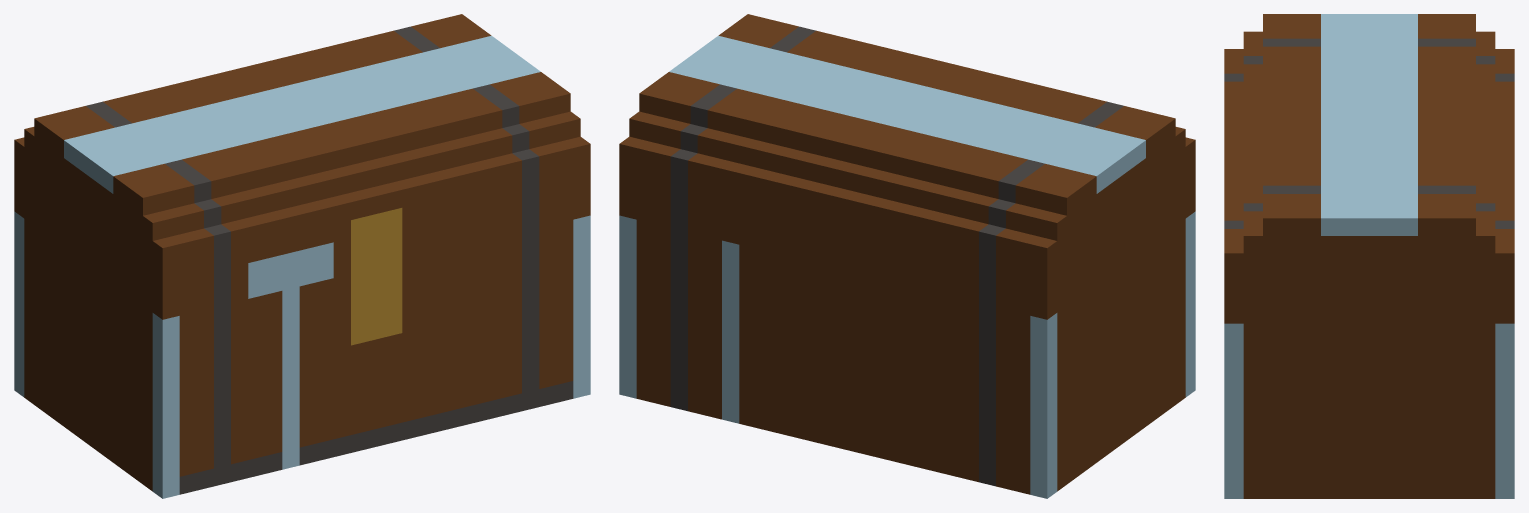
The model's file is frozen_chest.glb.
3 renders of one model, left to right at view 1: azimuth 30°, elevation 25°; view 2: azimuth 150°, elevation 25°; view 3: azimuth 270°, elevation 25°, orthographic. The views are drawn at different scales.
Parts seen in each view (by area): view 1: frozen_chest_lid, frozen_chest_base; view 2: frozen_chest_lid, frozen_chest_base; view 3: frozen_chest_lid, frozen_chest_base.
Boxes of the visible parts, <box> form: frozen_chest_lid: <box>14,14,590,319</box>; frozen_chest_base: <box>14,211,590,498</box>; frozen_chest_lid: <box>619,14,1195,319</box>; frozen_chest_base: <box>619,211,1195,498</box>; frozen_chest_lid: <box>1224,14,1514,323</box>; frozen_chest_base: <box>1224,323,1514,498</box>.
Bounding box in the file's own units: 1 × 0.64 × 0.6.
